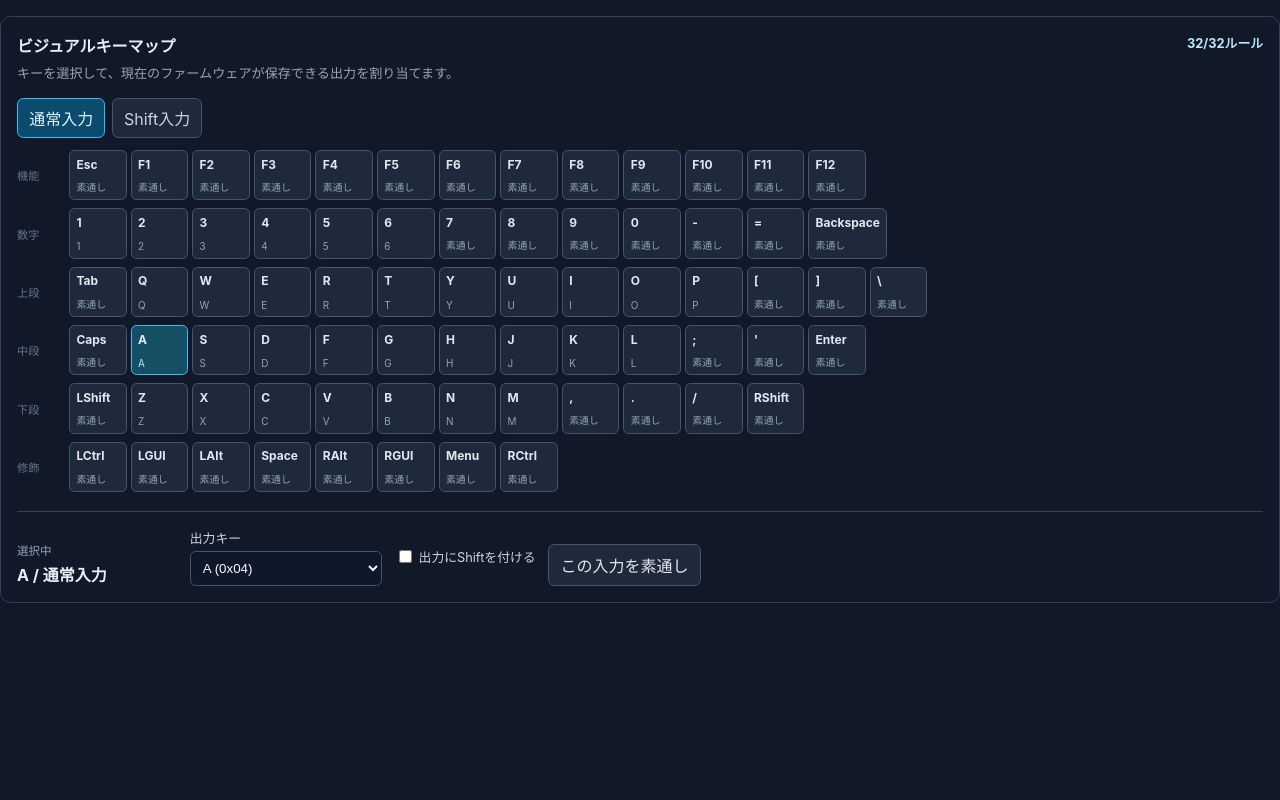
Test: Vial風の固定キーマップエディタ › 32ルールを超える追加を拒否し、理由を表示する
Click the button with aria-label "RCtrl (0xe8)": (529, 467) [500, 442, 558, 492]
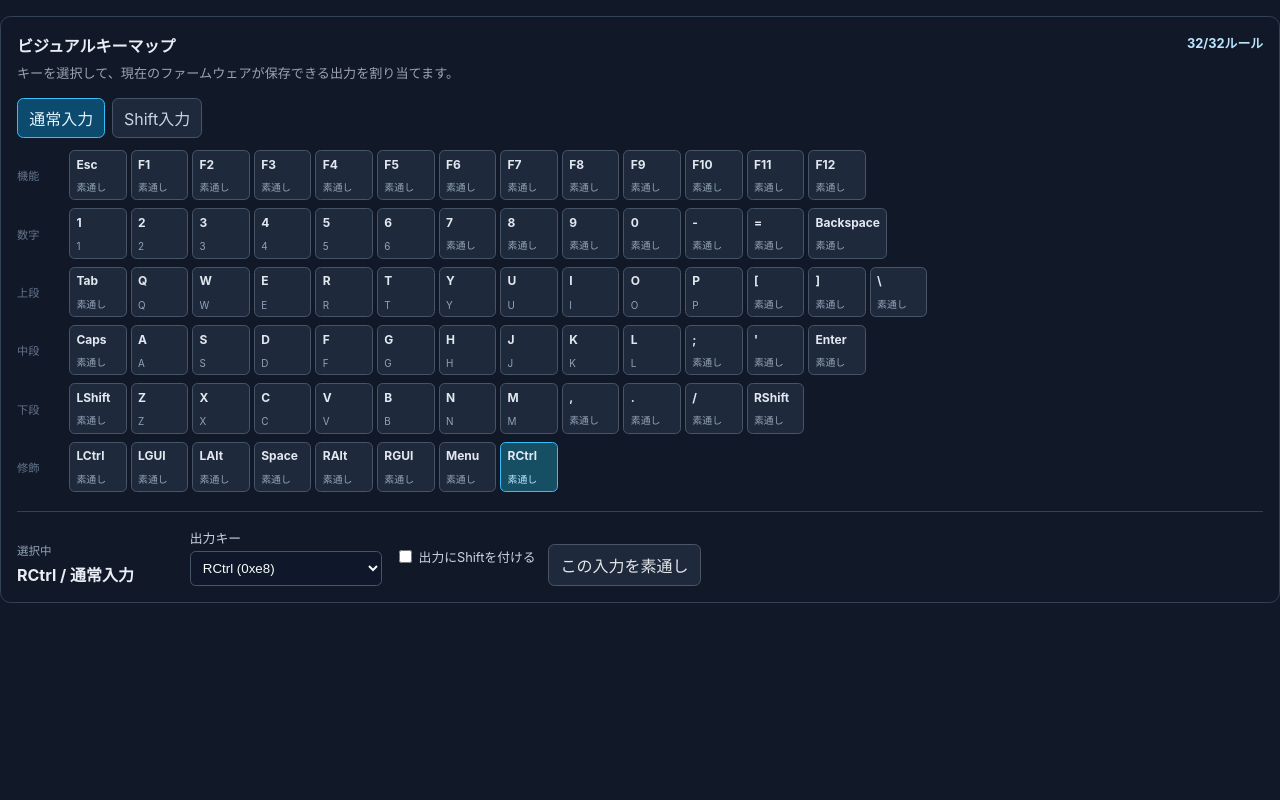
Select "B (0x05)" in the dropdown labelled "出力キー": (286, 568) [190, 551, 382, 586]
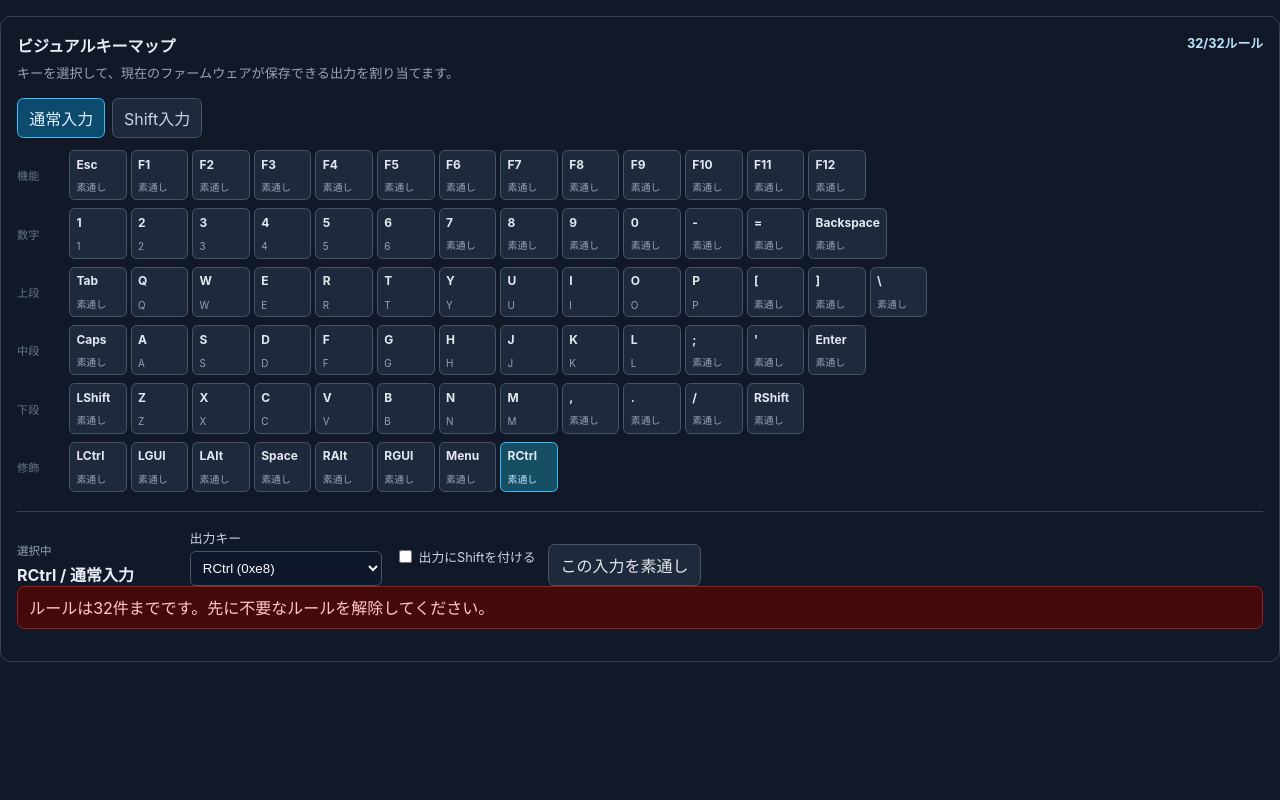
expect the message shows "32件まで": met, box [29, 598, 494, 618]
